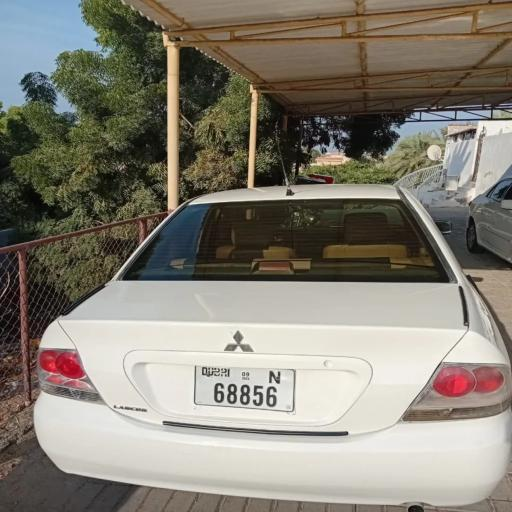license-plates: (194, 365, 295, 412)
